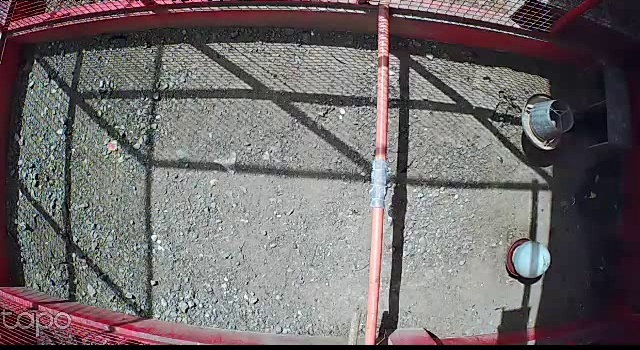Drinker: (504, 237, 553, 280)
Feeder: (520, 90, 576, 153)
